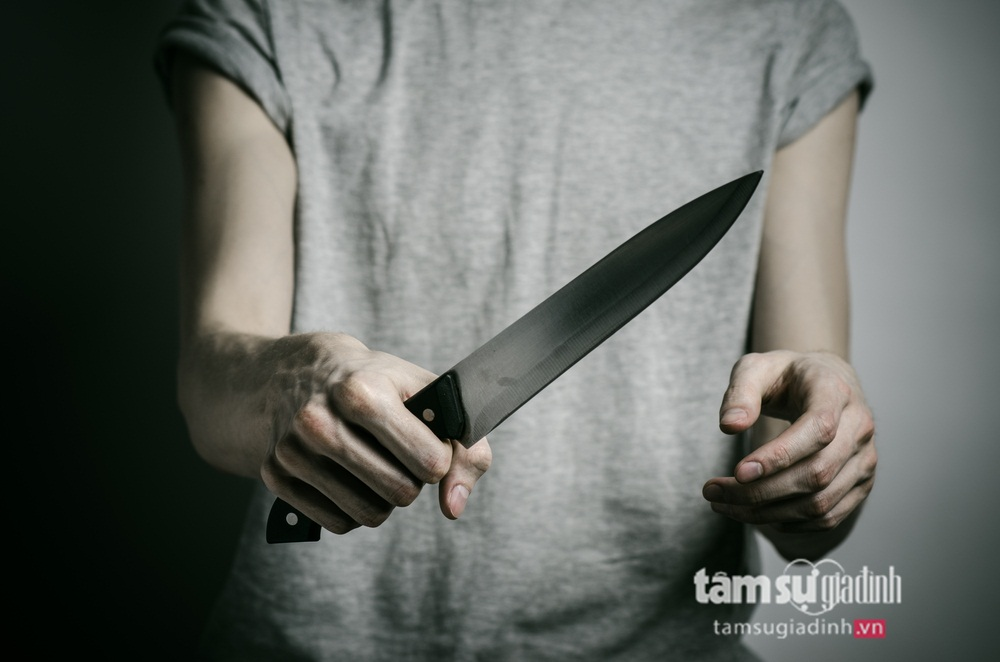knife: (361, 154, 773, 530)
